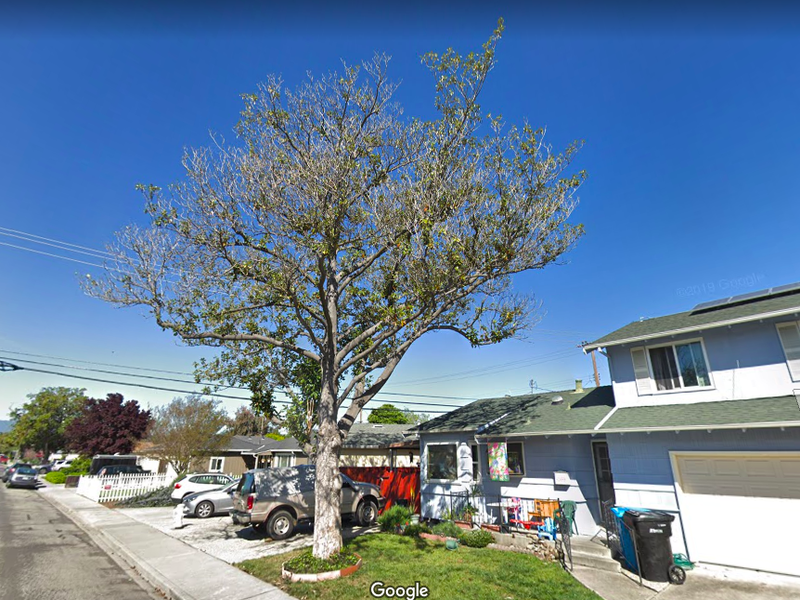tree: (75, 15, 588, 567)
